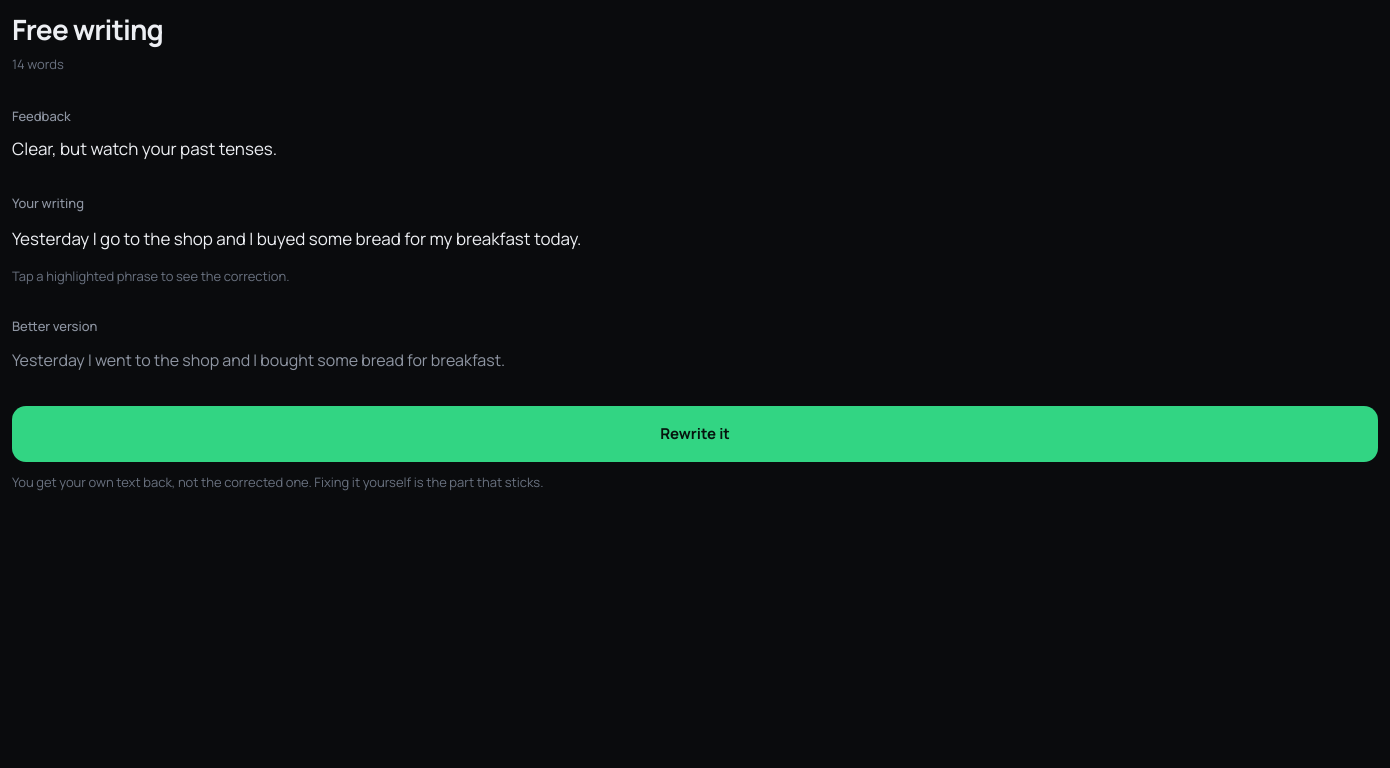
the rest of the review › hands the learner their own text back to rewrite, not the corrected one
Click the button "Rewrite it".
click(695, 434)  # box [12,406,1378,462]
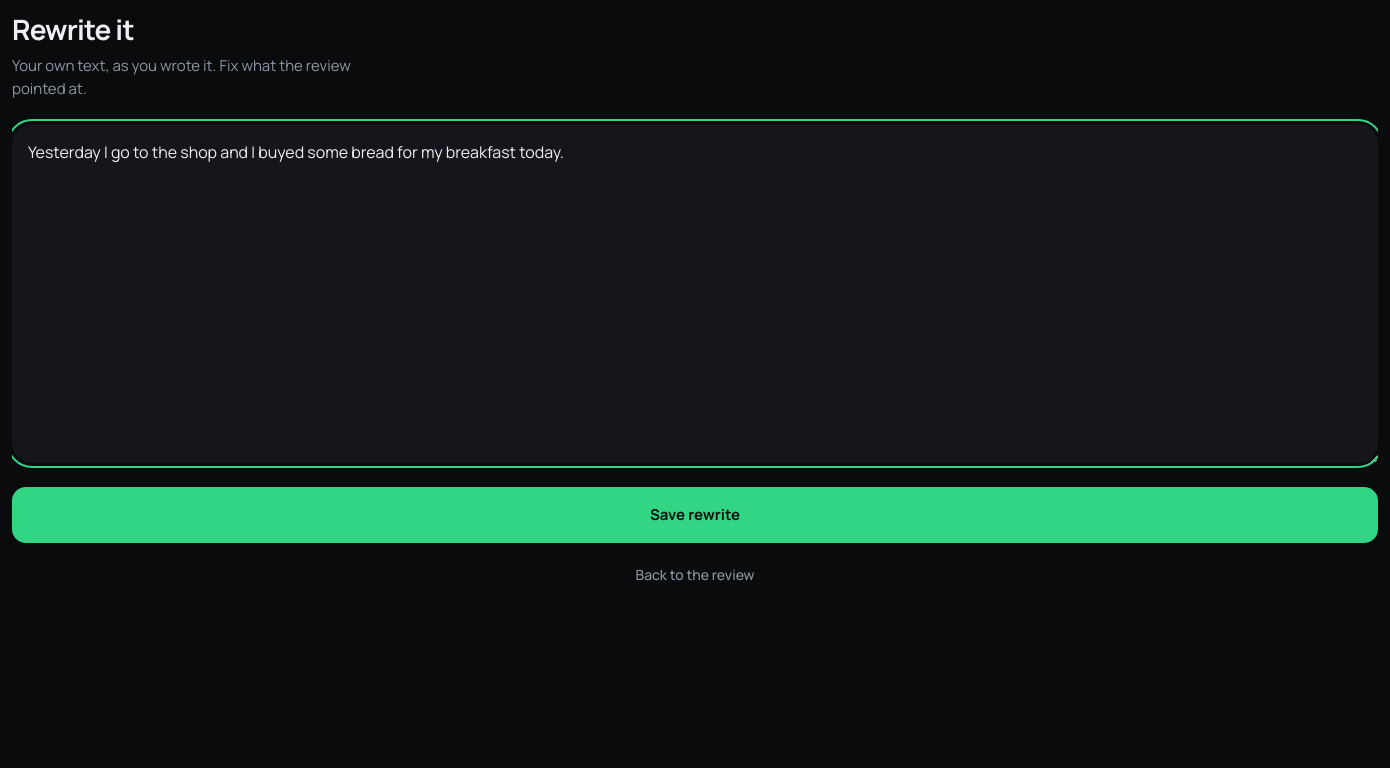
Check: the text box named "Your rewrite" holds "Yesterday I go to the shop and I buyed some bread for my breakfast today.", box [12,124,1378,463]
